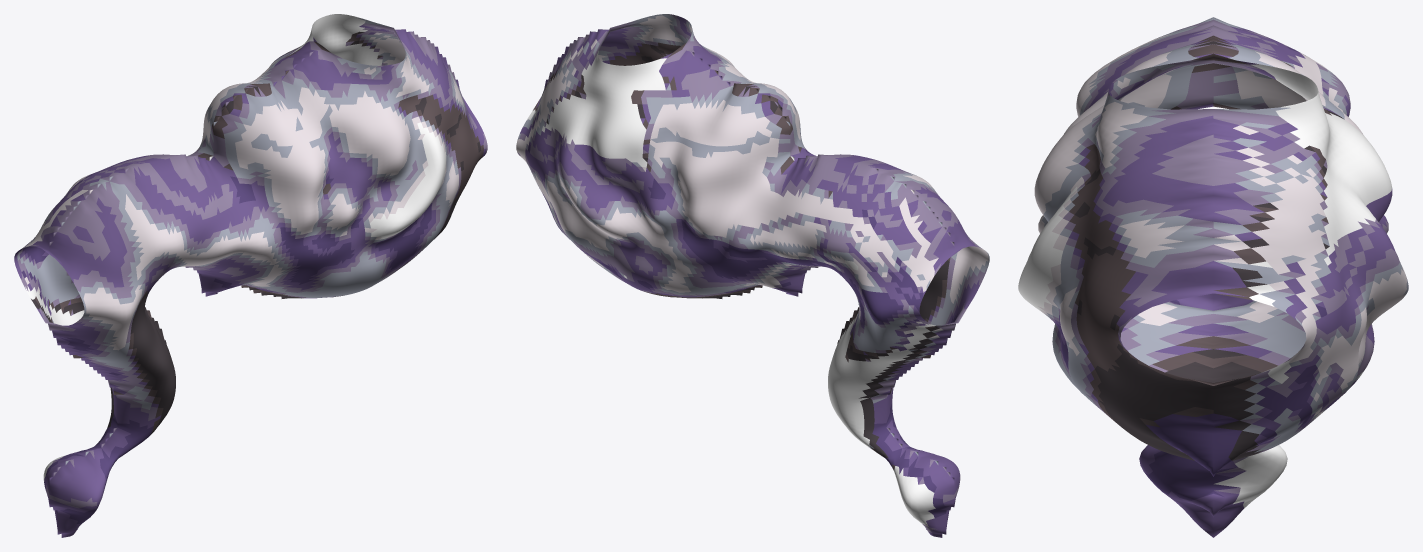
File: doksalsa.glb
3 views of the same model, side by side, from view 1: azimuth 30°, elevation 25°; view 2: azimuth 150°, elevation 25°; view 3: azimuth 270°, elevation 25° (orthographic). The views are drawn at different scales.
Parts seen in each view (by area): view 1: doksalsa; view 2: doksalsa; view 3: doksalsa.
Part boxes in pixels (x1=…): doksalsa: x1=14, y1=14, x2=487, y2=537; doksalsa: x1=516, y1=14, x2=989, y2=537; doksalsa: x1=1018, y1=17, x2=1408, y2=537.
Bounding box in the file's own units: 727 × 716 × 376.
